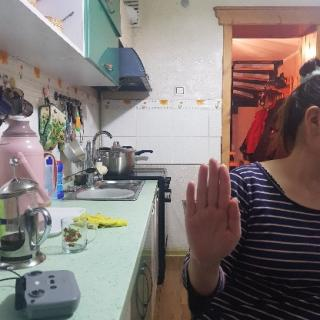SEEN: (180, 157, 244, 268)
